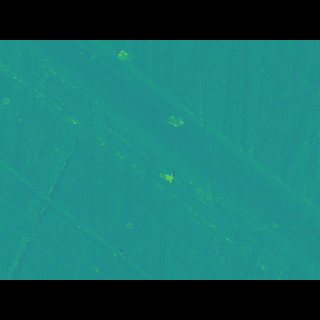Loch: (16, 69, 320, 248), (0, 160, 144, 251)
